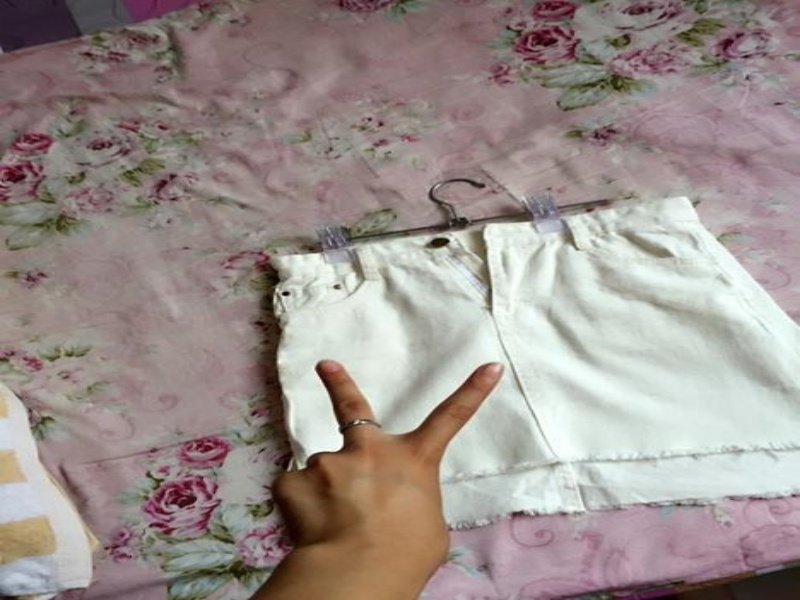skirt: (263, 192, 798, 537)
